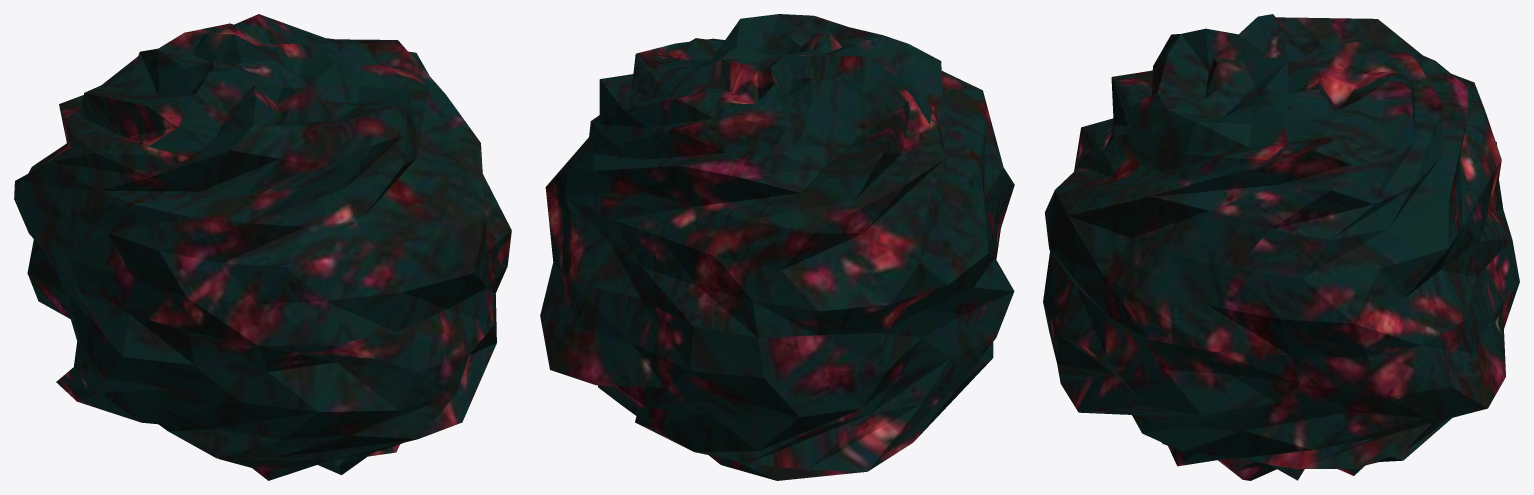
File: hydrengea.dae
3 views of the same model, side by side, from view 1: azimuth 30°, elevation 25°; view 2: azimuth 150°, elevation 25°; view 3: azimuth 270°, elevation 25° (orthographic).
Parts seen in each view (by area): view 1: Object_4; view 2: Object_4; view 3: Object_4.
Boxes of the visible parts, x1,y1,x2,y2 form: Object_4: (14, 14, 511, 480); Object_4: (540, 14, 1014, 480); Object_4: (1043, 14, 1519, 480).
Size of the model in its own units: 1.27 by 1.26 by 1.2.
Materials: 1 (1 with a texture image).
